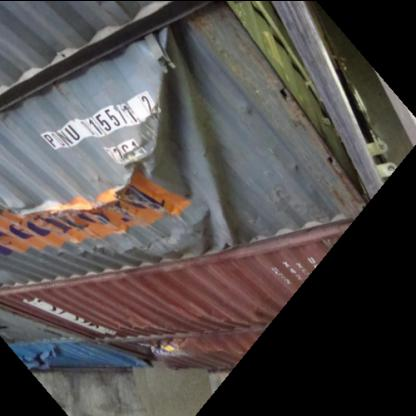Damage: (160, 57, 244, 276), (128, 37, 195, 204), (3, 180, 138, 232)
